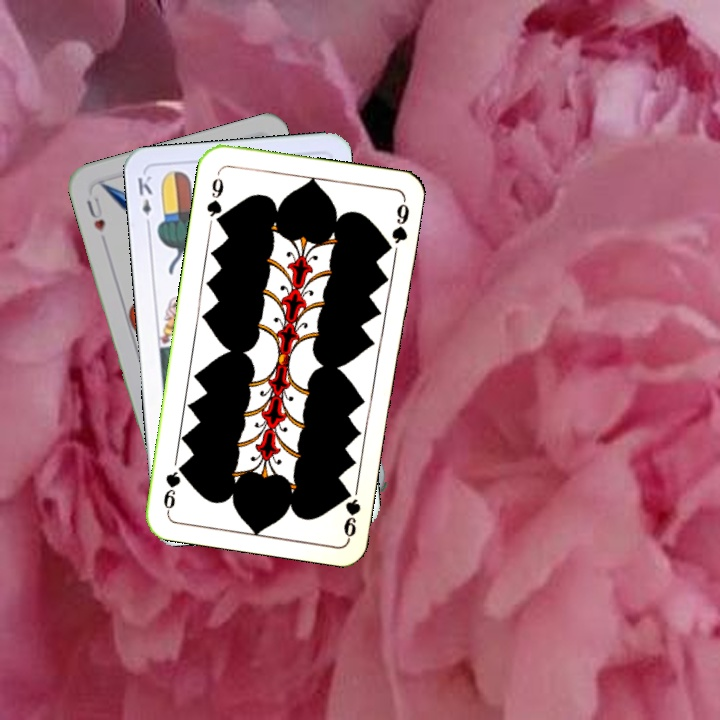EK: (133, 171, 155, 231)
G9: (340, 486, 364, 541), (202, 174, 226, 228)
HU: (82, 193, 108, 235)
